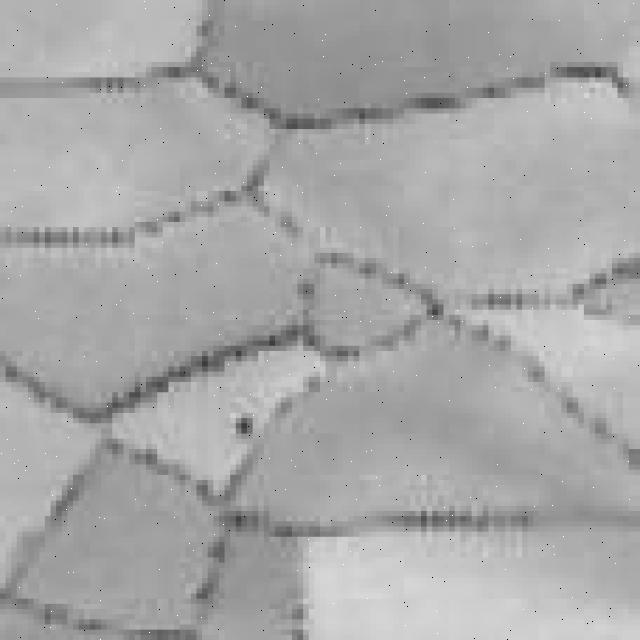good_void: (236, 418, 247, 439)
